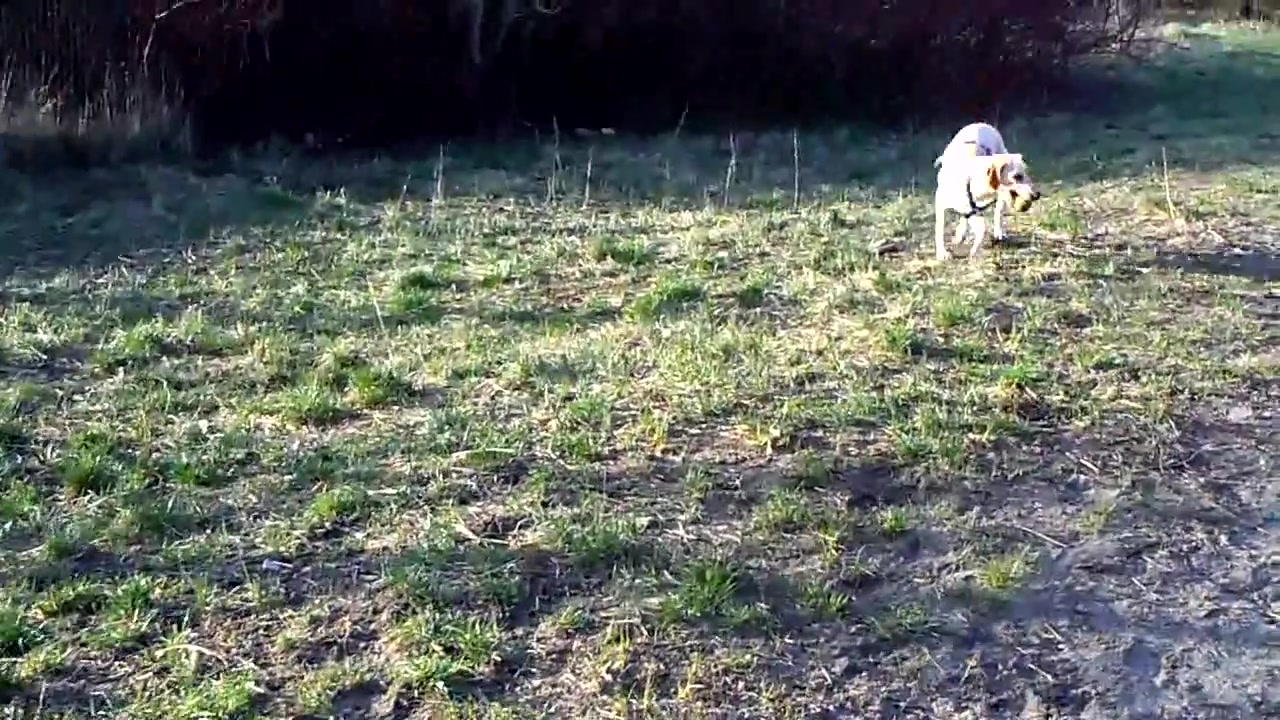dog: (934, 117, 1037, 258)
